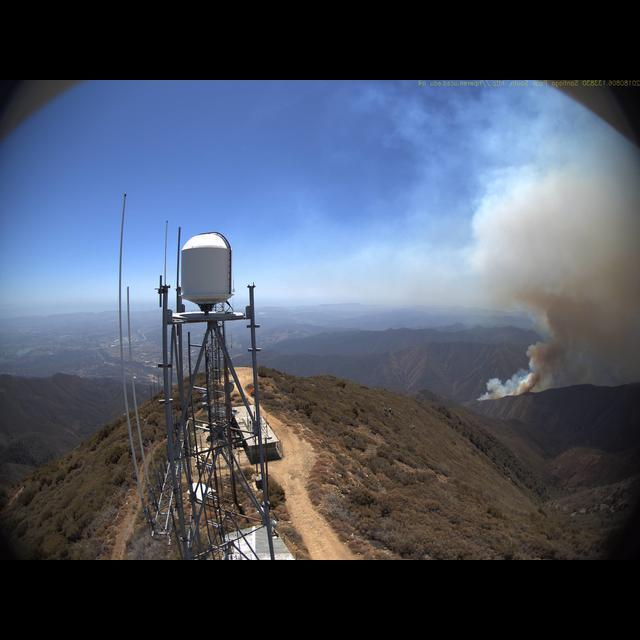Smoke: (471, 155, 639, 406)
